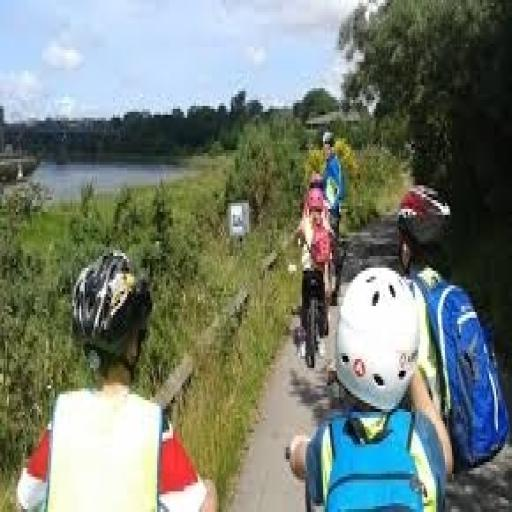cycling: (14, 244, 221, 509), (286, 262, 452, 509), (392, 180, 510, 480), (293, 185, 337, 356)
